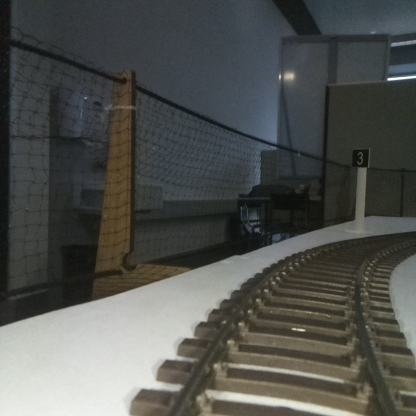black-info-3: (352, 148, 369, 233)
